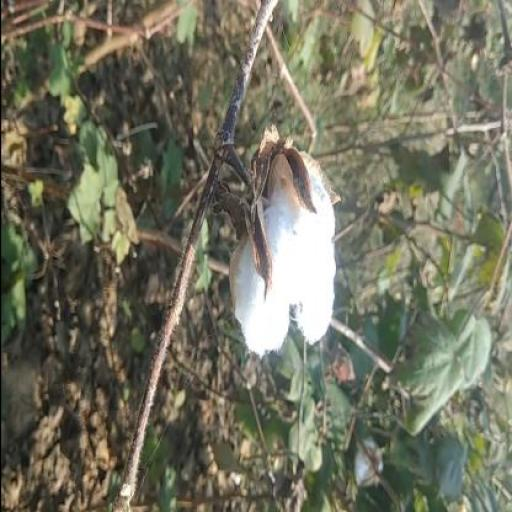cotton_ready: (170, 109, 360, 365)
